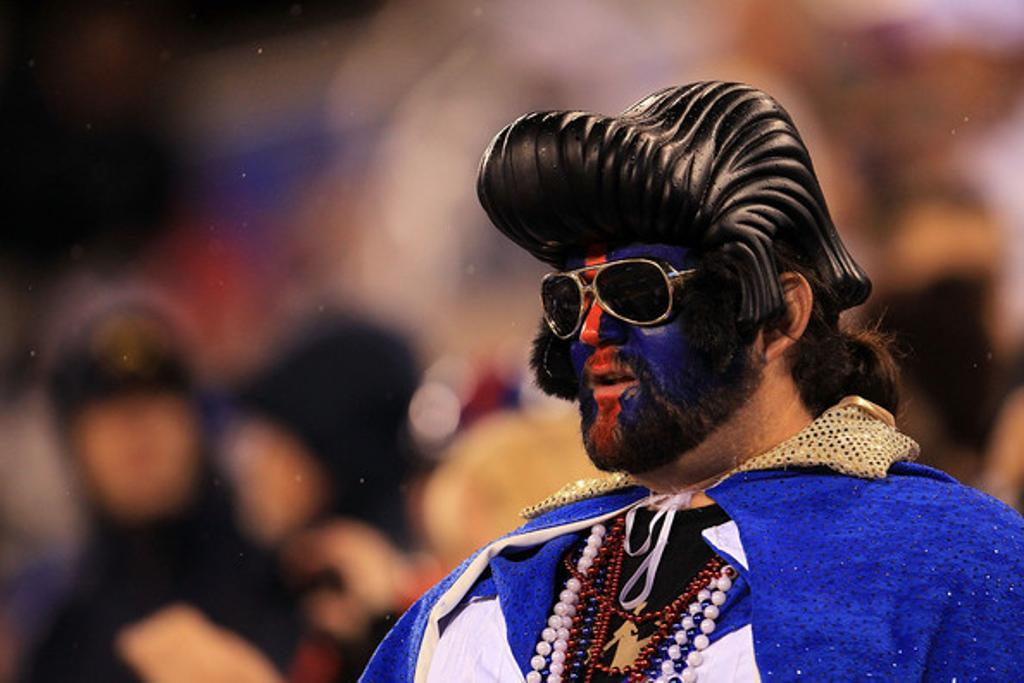face: (555, 245, 761, 469)
